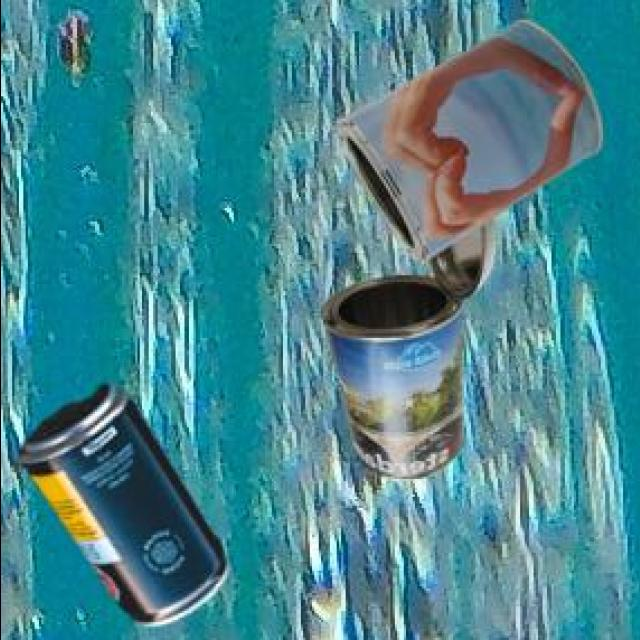logam: (339, 23, 605, 267), (23, 388, 229, 630), (323, 222, 496, 484)
